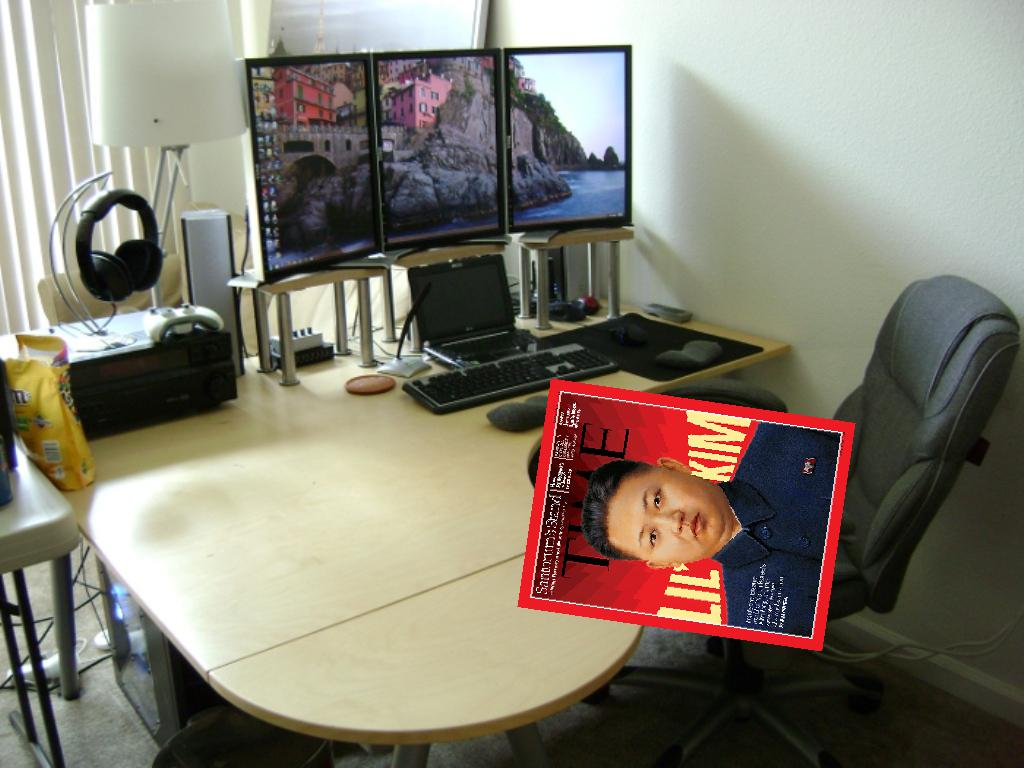times: (512, 377, 859, 654)
